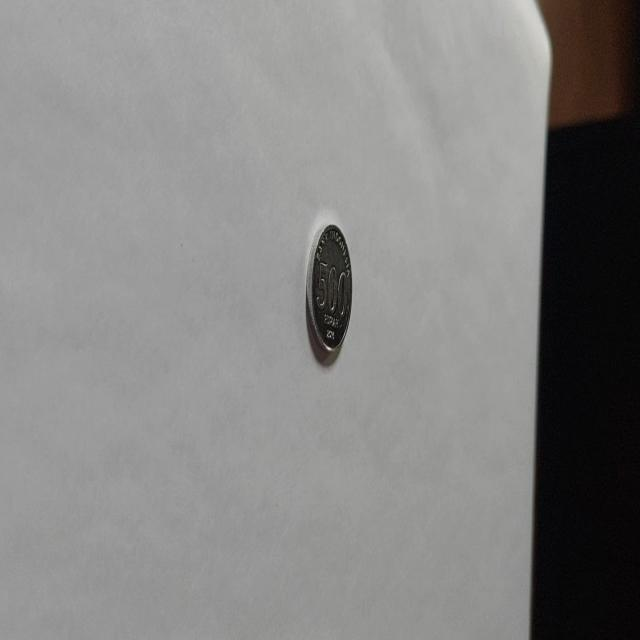lima ratus rupiah: (305, 221, 353, 361)
